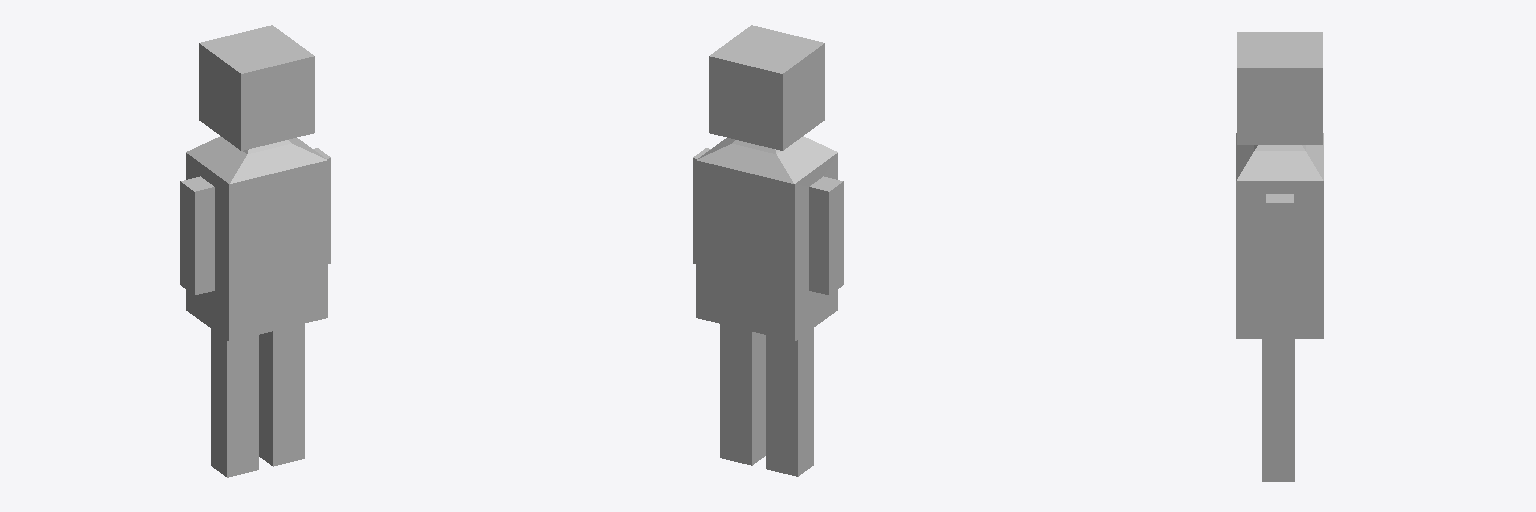
File: player.obj
The picture shows the model from 3 angles: view 1: azimuth 30°, elevation 25°; view 2: azimuth 150°, elevation 25°; view 3: azimuth 270°, elevation 25°; orthographic projection.
Parts seen in each view (by area): view 1: Cube; view 2: Cube; view 3: Cube.
Boxes of the visible parts, x1=… form: Cube: x1=180, y1=25, x2=330, y2=477; Cube: x1=693, y1=25, x2=843, y2=476; Cube: x1=1236, y1=32, x2=1323, y2=481.
Bounding box in the file's own units: 0.7485 × 2.15 × 0.4131.